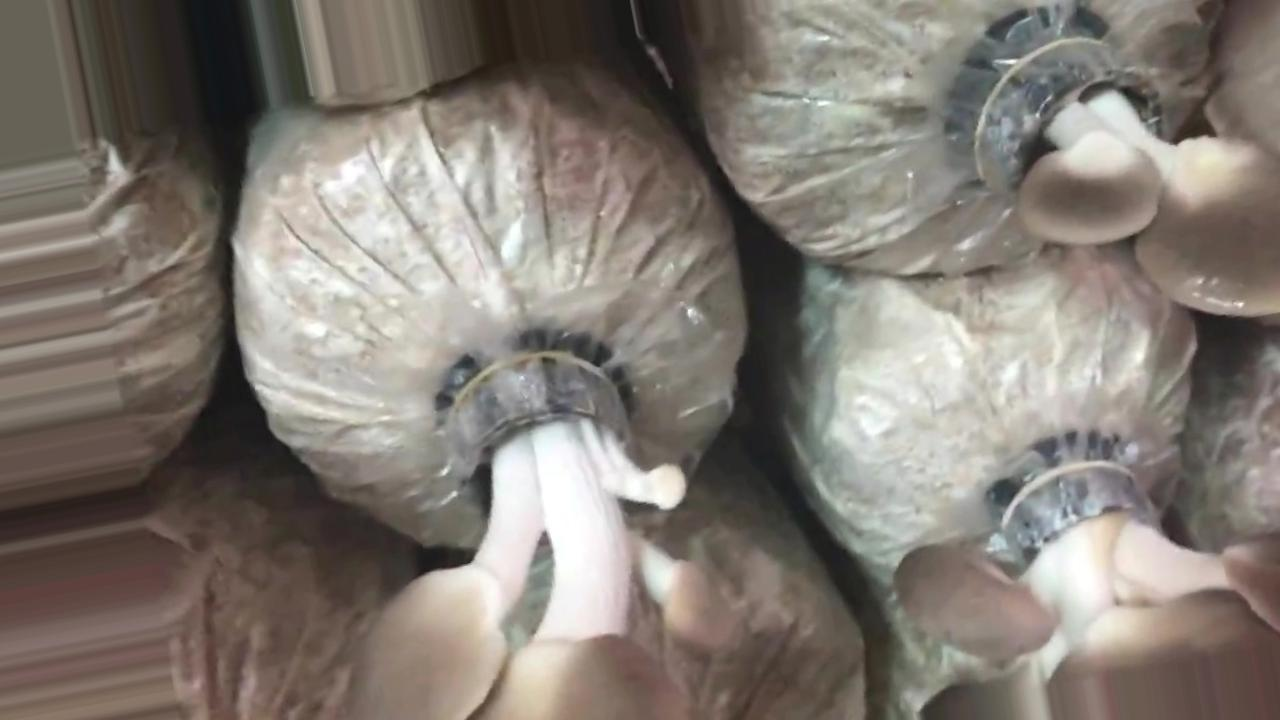nam: (375, 350, 741, 720), (888, 462, 1273, 720), (986, 16, 1280, 319)
